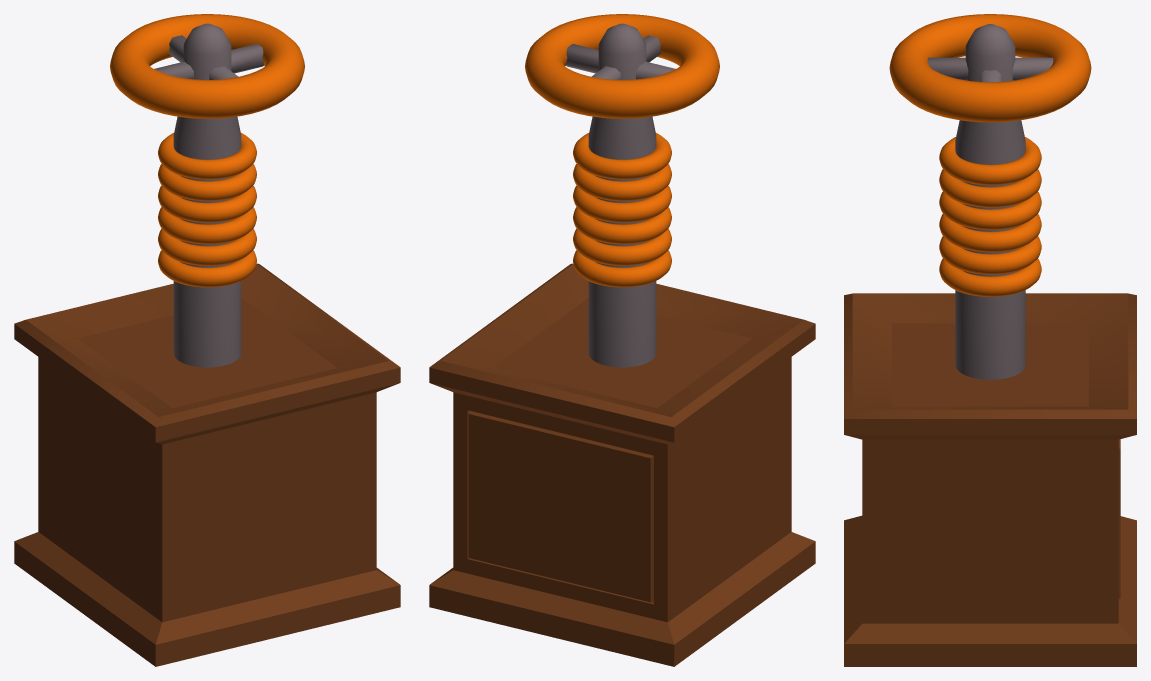
Rendered from V_Industrial03_Bobina.fbx.
3 renders of one model, left to right at view 1: azimuth 30°, elevation 25°; view 2: azimuth 150°, elevation 25°; view 3: azimuth 270°, elevation 25°, orthographic. The views are drawn at different scales.
Parts seen in each view (by area): view 1: Tesla; view 2: Tesla; view 3: Tesla.
Part boxes in pixels (<box>): Tesla: <box>14,14,400,666</box>; Tesla: <box>429,14,815,666</box>; Tesla: <box>844,14,1136,666</box>.
Size of the model in its own units: 229 by 498 by 229.
